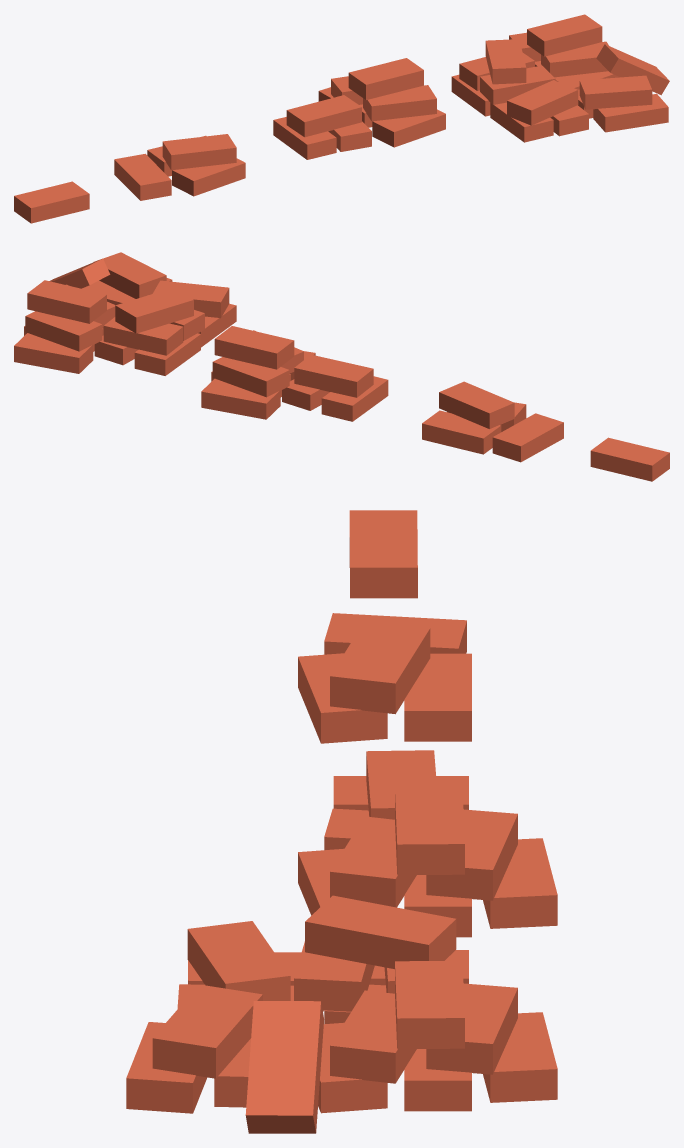
File: Tilepiles.fbx
3 renders of one model, top to bottom at view 1: azimuth 30°, elevation 25°; view 2: azimuth 150°, elevation 25°; view 3: azimuth 270°, elevation 25°, orthographic. The views are drawn at different scales.
Parts seen in each view (by area): view 1: SM_Tilepile_Big, SM_Tilepile_Med, SM_Tilepile_Small, SM_Tilepile_Single; view 2: SM_Tilepile_Big, SM_Tilepile_Med, SM_Tilepile_Small, SM_Tilepile_Single; view 3: SM_Tilepile_Big, SM_Tilepile_Med, SM_Tilepile_Small, SM_Tilepile_Single.
Part boxes in pixels (x1,y1,x2,y2): SM_Tilepile_Big: [451, 14, 669, 142]; SM_Tilepile_Med: [273, 58, 445, 159]; SM_Tilepile_Small: [114, 134, 245, 200]; SM_Tilepile_Single: [14, 181, 89, 223]; SM_Tilepile_Big: [14, 252, 236, 375]; SM_Tilepile_Med: [201, 326, 388, 421]; SM_Tilepile_Small: [422, 381, 563, 462]; SM_Tilepile_Single: [590, 437, 669, 481]; SM_Tilepile_Big: [126, 895, 557, 1133]; SM_Tilepile_Med: [298, 750, 557, 937]; SM_Tilepile_Small: [298, 613, 471, 743]; SM_Tilepile_Single: [349, 510, 417, 598].
Bounding box in the file's own units: 231 × 16.99 × 70.07.
